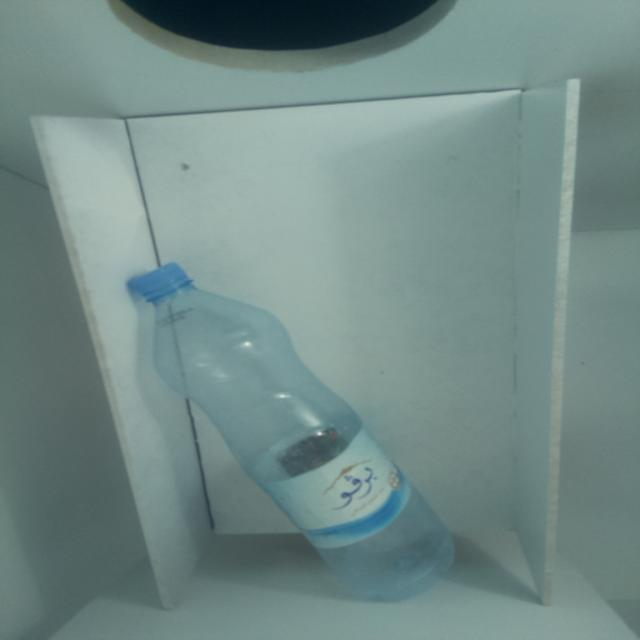BIODEGRADABLE: (124, 247, 484, 617)
